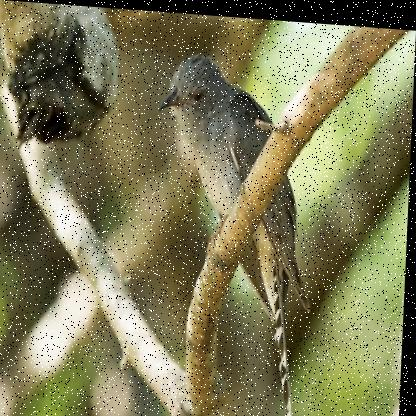Burung: (149, 47, 323, 415)
